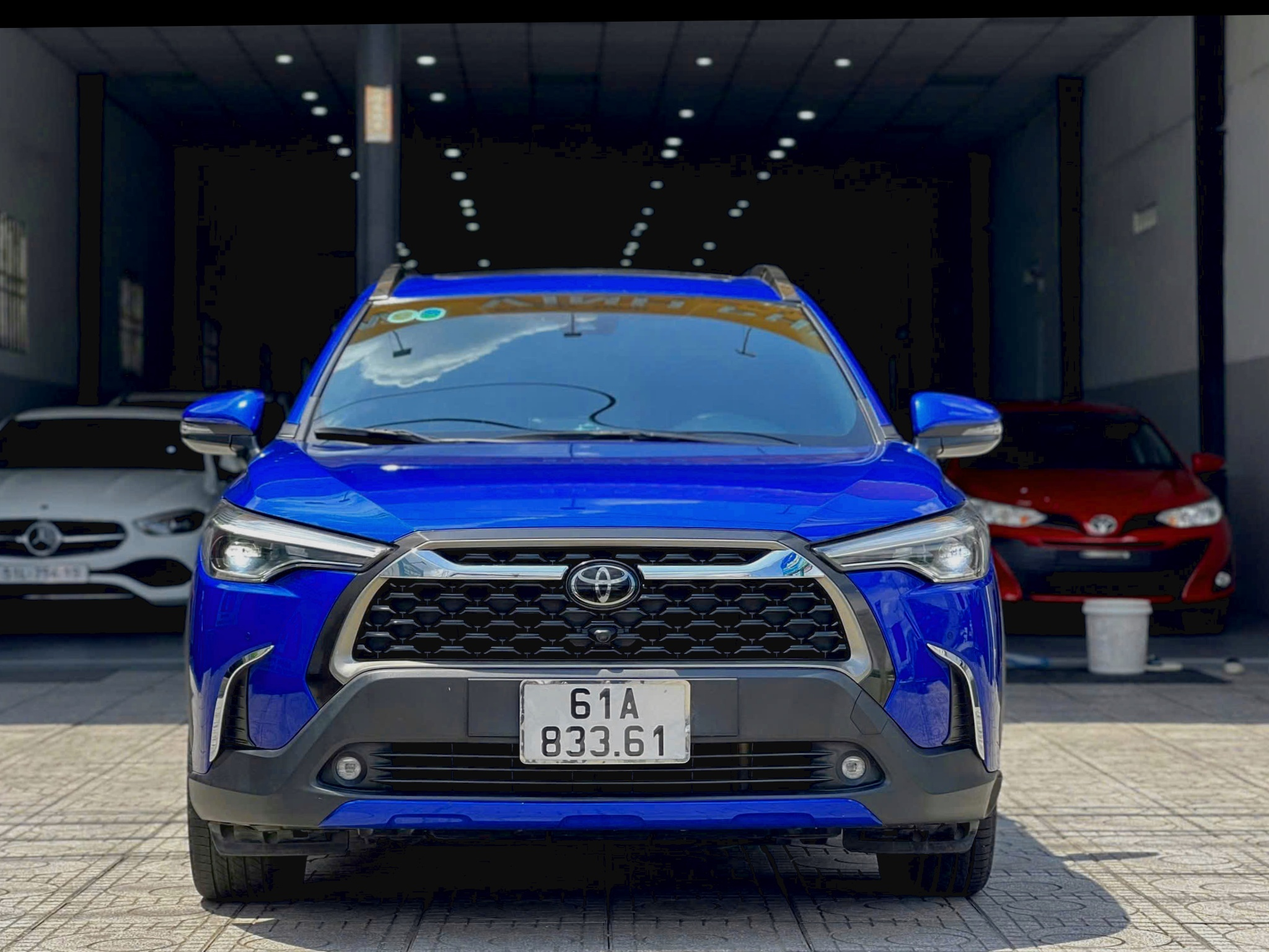Bien-so: (536, 657, 732, 769)
